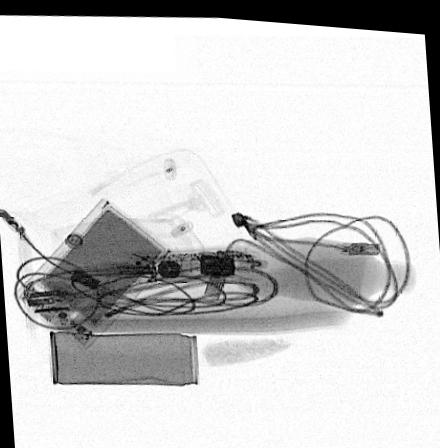Powerbank: (14, 196, 174, 351)
